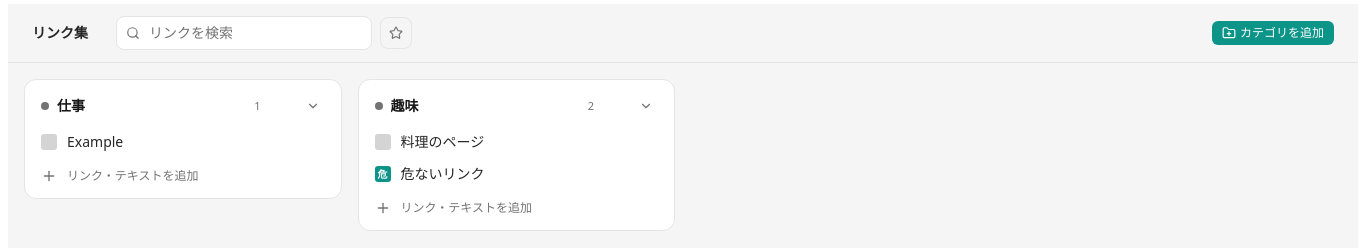
カードをたたむ（collapsible） › 検索中は、たたんだカードもひらいて、見つかったものを見せる
Check: the text "Example" is shown, box [67, 132, 123, 152]
Click the button named "「仕事」をたたむ" at x=312, y=106, box [300, 94, 324, 118]
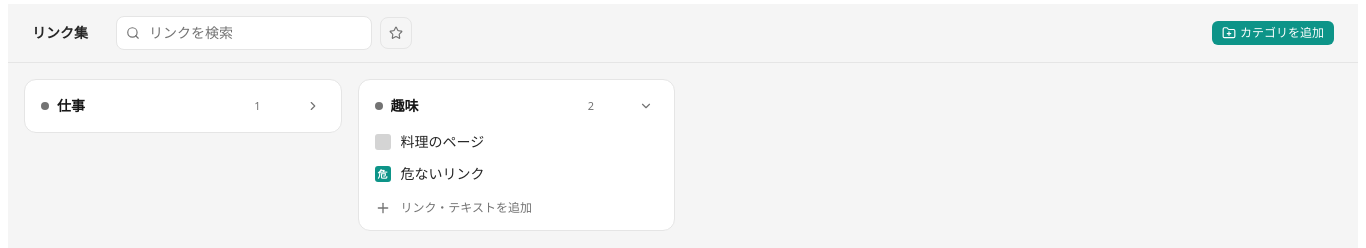
Type "Example" into the search field labelled "リンクを検索" at x=244, y=33, box [116, 16, 372, 50]
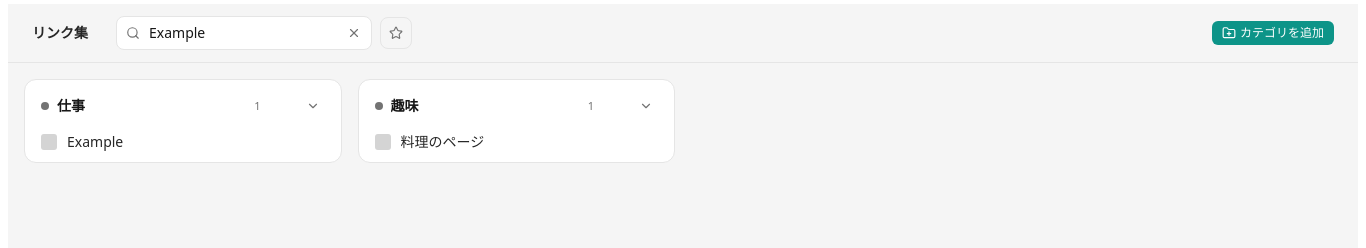
Check: the text "Example" is shown, box [67, 132, 123, 152]
